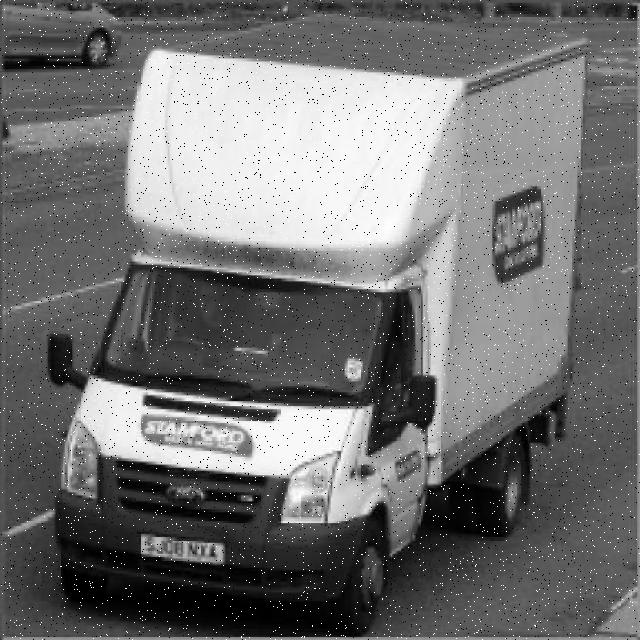Box Truck: (47, 15, 590, 636)
